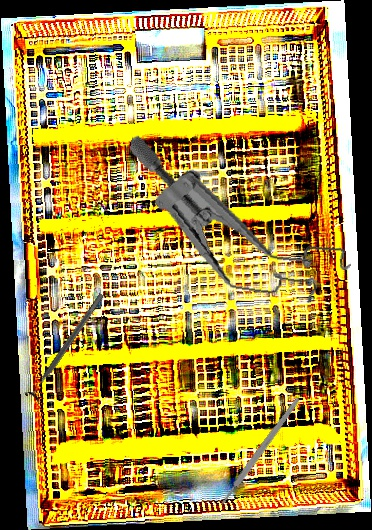Fixation Ring: (23, 289, 111, 405)
Scalpel Handle: (218, 396, 302, 507)
Speculum: (110, 133, 366, 311)
